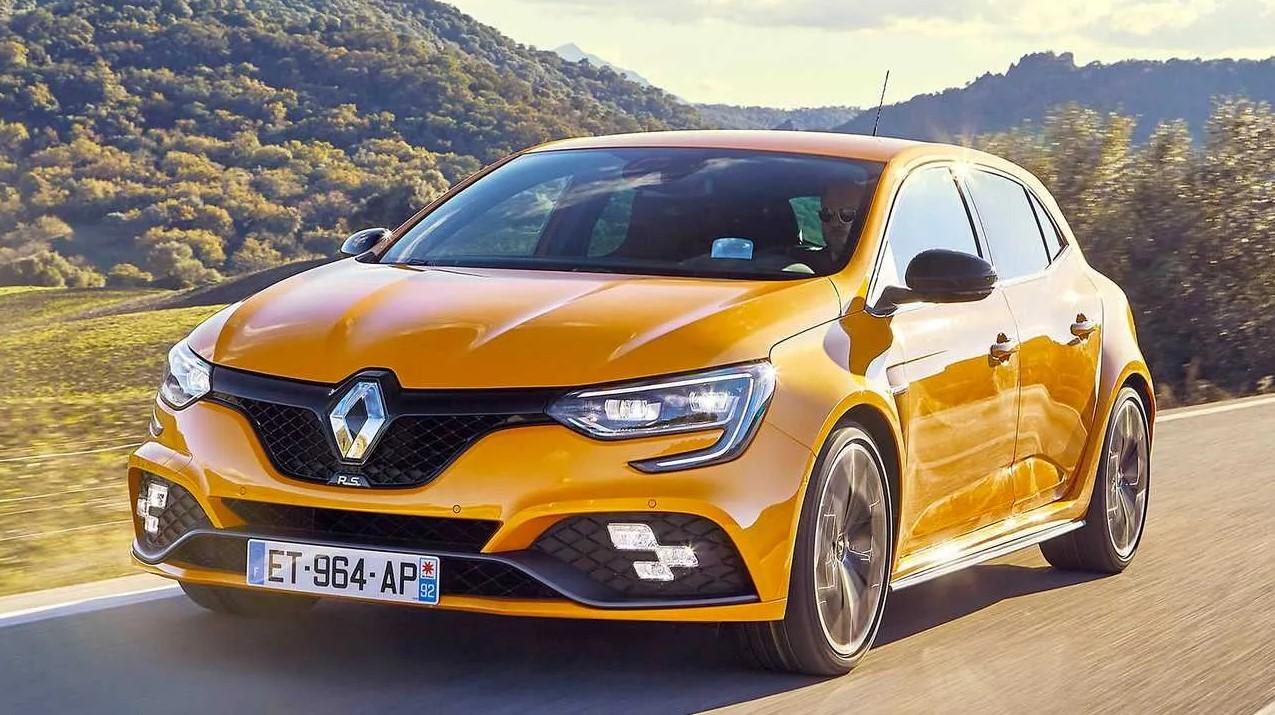Renault: (322, 369, 399, 471)
